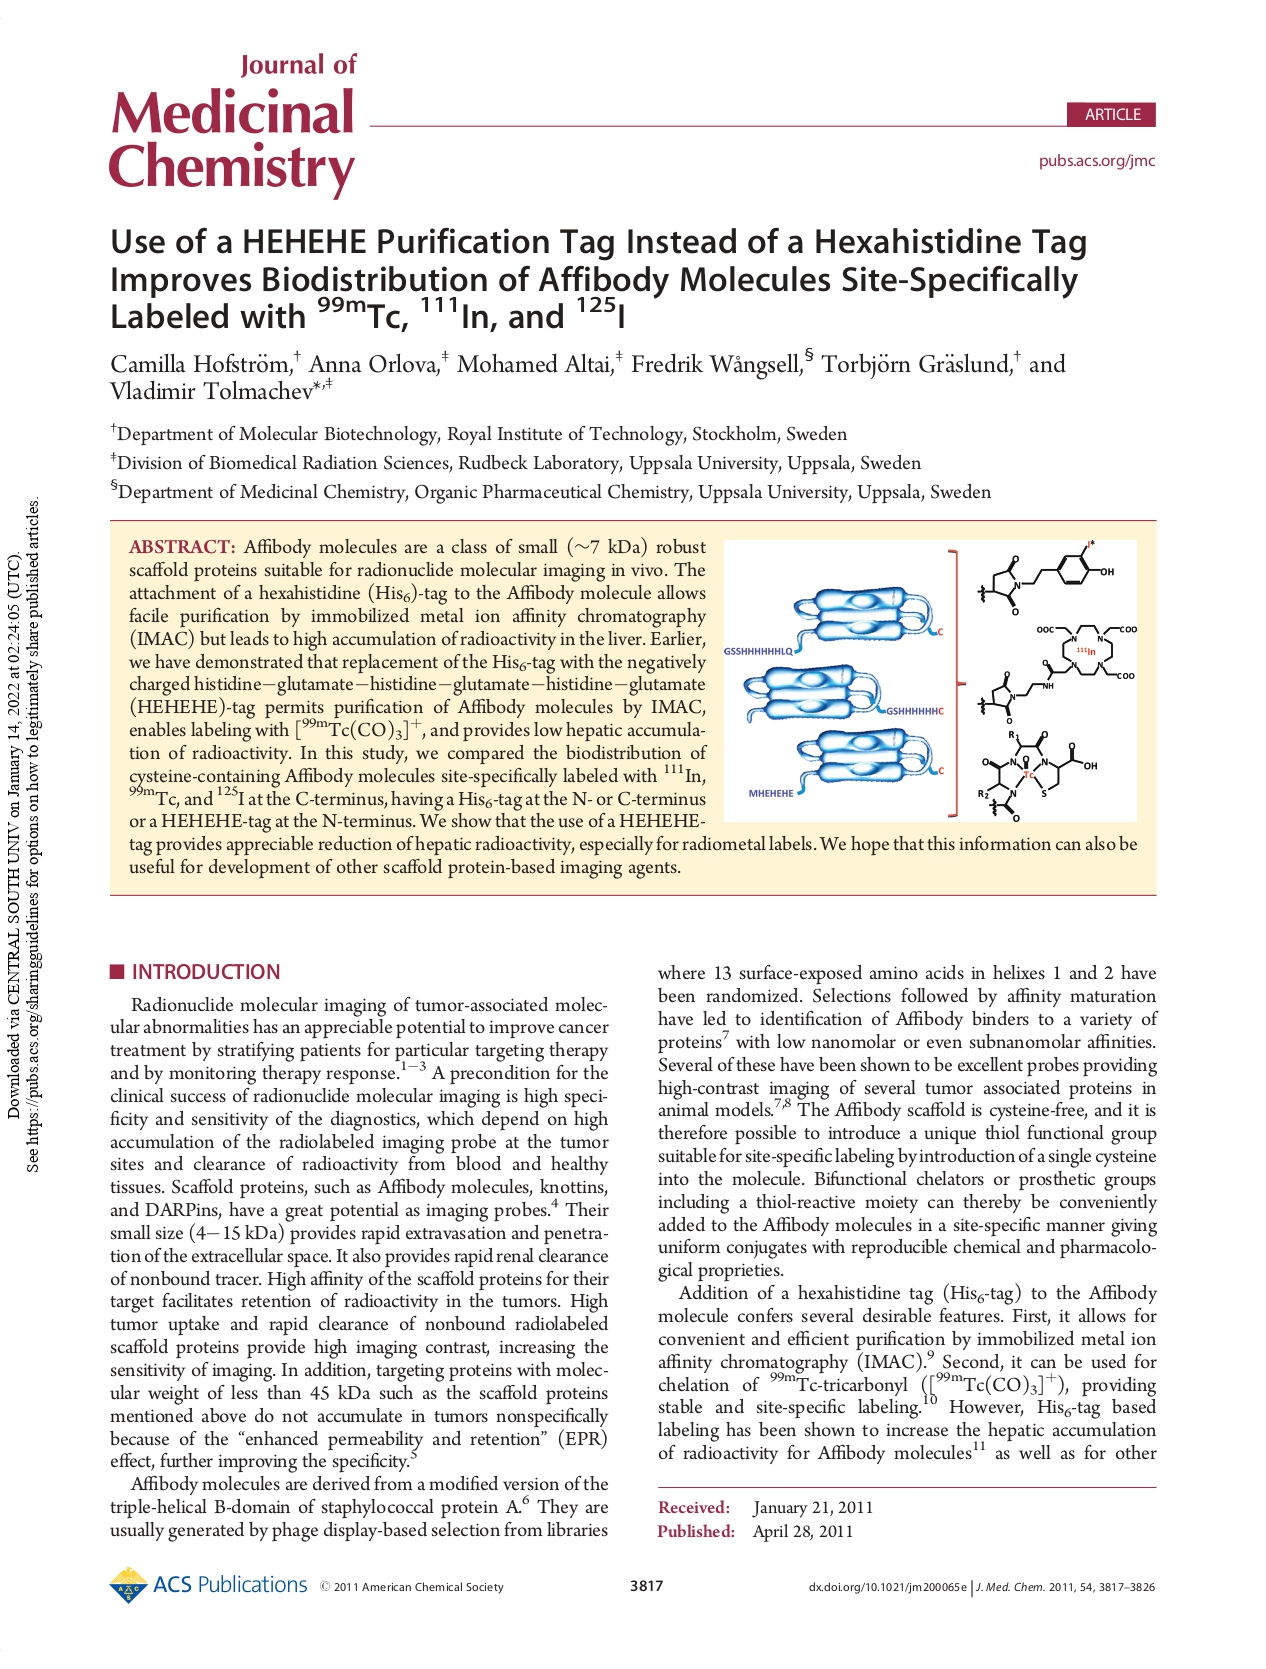exist_molecular: (971, 622, 1138, 725), (975, 727, 1098, 823), (973, 539, 1116, 618)
